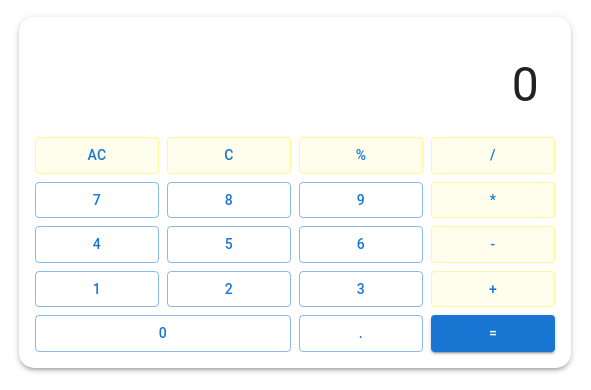
Scenario: Calculator App tests › Does multiply correctly
Click the button "1": [97, 289] box [35, 270, 159, 307]
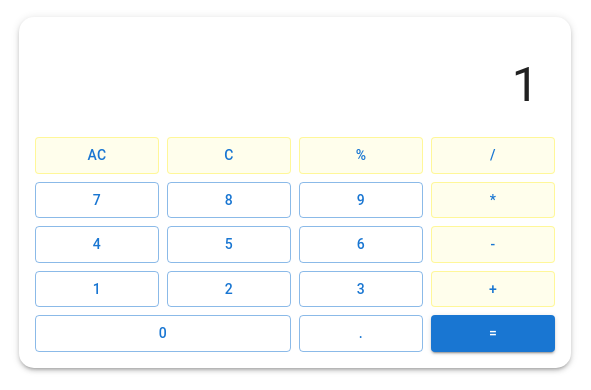
Click the button "0": [163, 333] box [35, 315, 291, 352]
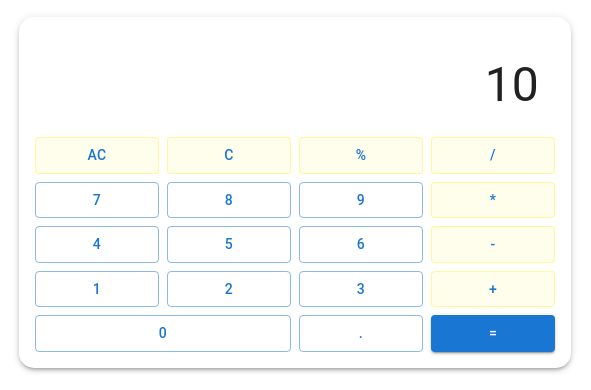
Click the button "*": [493, 200] box [431, 182, 555, 218]
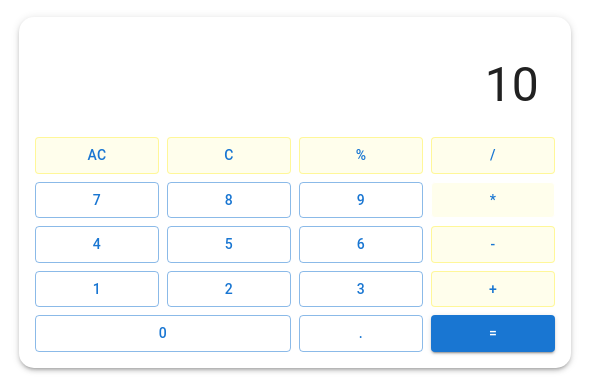
Click the button "5": [229, 244] box [167, 226, 291, 262]
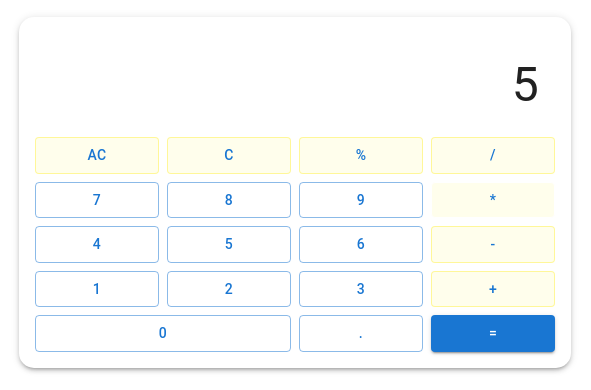
Click the button "=": [493, 333] box [431, 315, 555, 352]
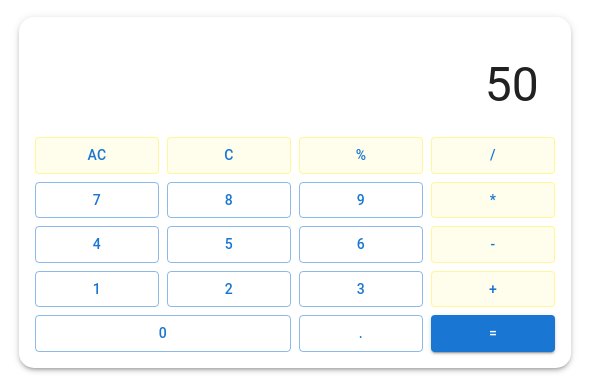
Check: the text with test id "output" reads "50", box [485, 56, 539, 113]
